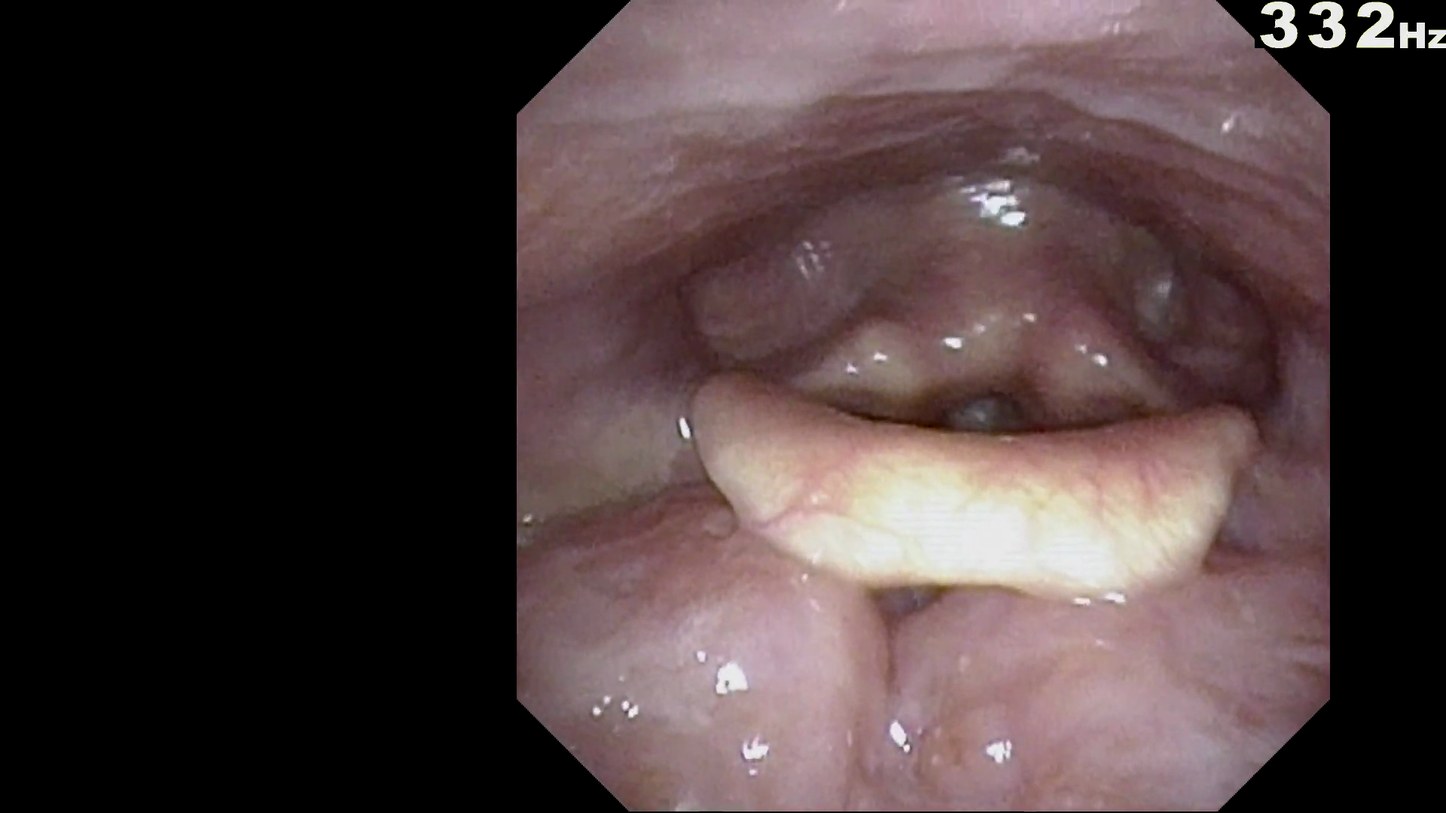epiglottis: (676, 355, 1278, 617)
trachea: (915, 328, 1062, 483)
